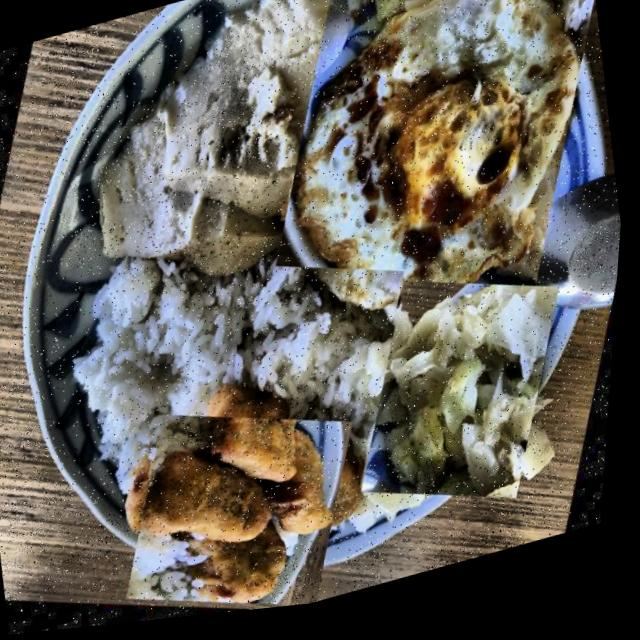Food: (212, 0, 640, 396), (58, 187, 438, 507), (89, 322, 415, 630), (330, 248, 601, 552)
